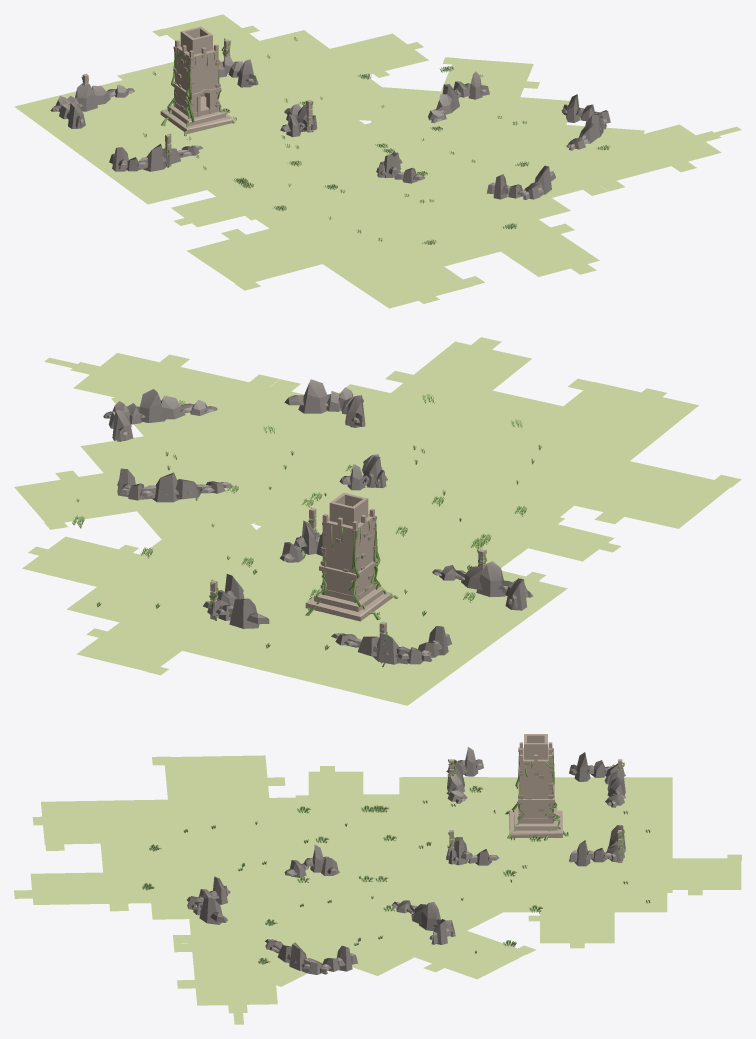
Rendered from planeGround7.glb.
The picture shows the model from 3 angles, top to bottom: view 1: azimuth 30°, elevation 25°; view 2: azimuth 150°, elevation 25°; view 3: azimuth 270°, elevation 25°; orthographic projection. The views are drawn at different scales.
Parts seen in each view (by area): view 1: Object_7.003, Object_7.004, Object_7.002, Object_7.001, Plane, Object_3, Object_9, Object_9.001, Object_11; view 2: Object_7.003, Object_7.004, Object_7.002, Plane, Object_7.001, Object_9.001, Object_9, Object_3, Object_11, Object_4; view 3: Object_7.003, Object_7.004, Object_7.002, Object_7.001, Plane, Object_9.001, Object_9, Object_3, Object_11, Object_4.
Boxes of the visible parts, <box> form: Object_7.003: <box>186,124,741,308</box>; Object_7.004: <box>283,57,651,271</box>; Object_7.002: <box>117,14,428,142</box>; Object_7.001: <box>127,99,369,227</box>; Plane: <box>14,80,206,204</box>; Object_3: <box>82,26,312,167</box>; Object_9: <box>50,56,317,171</box>; Object_9.001: <box>376,71,610,199</box>; Object_11: <box>81,38,313,167</box>; Object_7.003: <box>44,337,741,564</box>; Object_7.004: <box>14,384,598,558</box>; Object_7.002: <box>22,523,415,675</box>; Plane: <box>182,581,567,705</box>; Object_7.001: <box>256,515,621,623</box>; Object_9.001: <box>103,379,387,502</box>; Object_9: <box>203,520,532,664</box>; Object_3: <box>210,492,485,636</box>; Object_11: <box>209,507,486,666</box>; Object_4: <box>241,505,526,650</box>; Object_7.003: <box>14,755,449,1024</box>; Object_7.004: <box>106,825,536,986</box>; Object_7.002: <box>436,808,741,948</box>; Object_7.001: <box>295,766,563,887</box>; Plane: <box>399,777,672,892</box>; Object_9.001: <box>187,844,455,974</box>; Object_9: <box>446,747,625,866</box>; Object_3: <box>449,734,622,862</box>; Object_11: <box>448,748,624,862</box>; Object_4: <box>297,786,650,876</box>.
Size of the model in its own units: 46.64 by 8.67 by 53.27.
